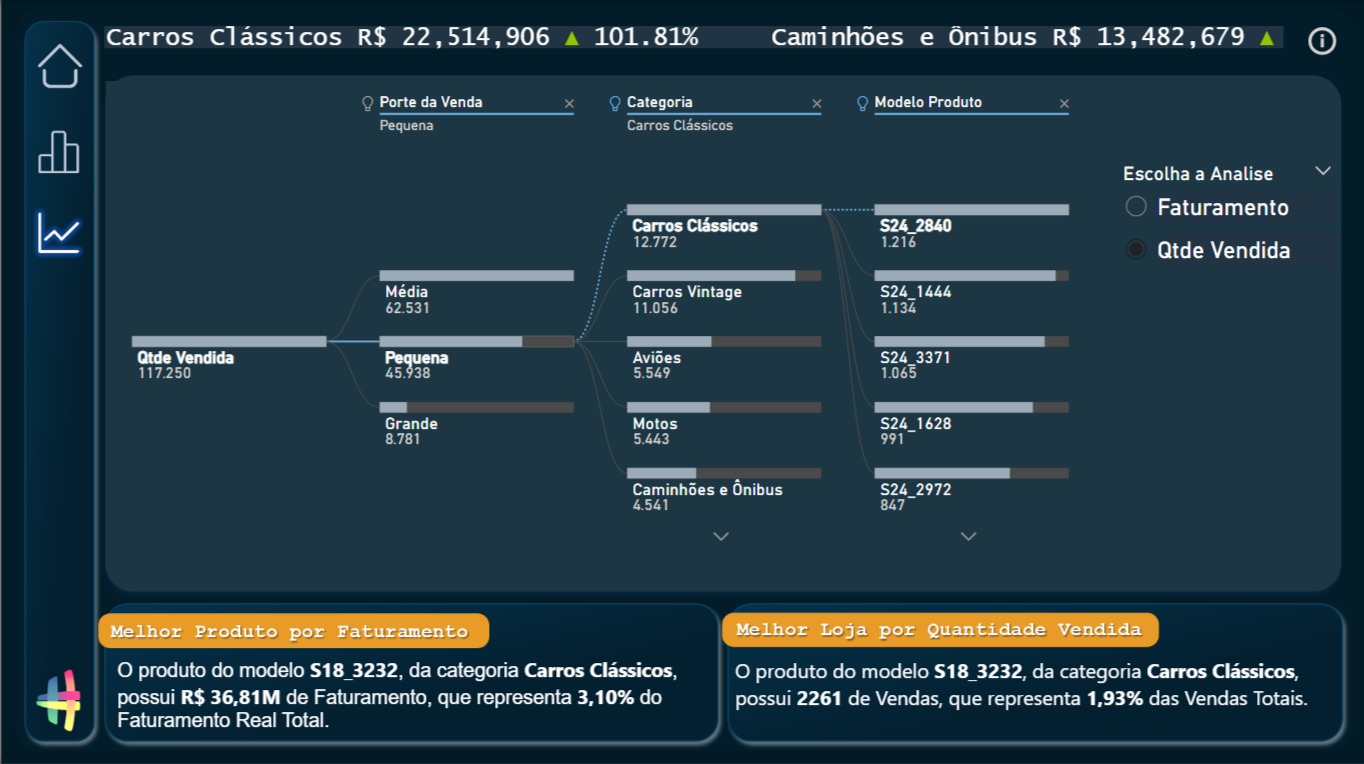

The dashboard page shown, as its layout file describes it:
{"tool":"powerbi","page":{"name":"Analise","canvas":[1280,720],"ordinal":2},"visuals":[{"type":"ScrollingTextVisual1448795304508","fields":{"Category":["dProduto.Categoria"],"Measure Absolute":["Medidas.Faturamento Real Ultimo Mês"],"Measure Deviation":["Medidas.% Crescimento Ultimo Mes"]},"box":[91.9,21.2,1115.6,31.1],"z":0},{"type":"actionButton","title":"Botão Informação Scroller","box":[1220.5,21.9,37.1,35.4],"z":1000},{"type":"enlightenDataStoryDDFB78A6143E42CFAFBC50CCF18D978D","fields":{"measure":["Medidas.Nome Top Produto Faturamento","Medidas.Categoria Top Produto Faturamento","Medidas.Faturamento Melhor Produto","Medidas.% Margem Top Produto Faturamento"]},"box":[103.2,610.8,568.4,89.1],"z":2000},{"type":"enlightenDataStoryDDFB78A6143E42CFAFBC50CCF18D978D","fields":{"measure":["Medidas.Nome Top Produto Qtde Vendida","Medidas.Categoria Top Produto Qtde Vendida","Medidas.Qtde Vendas Melhor Produto","Medidas.% Margem Top Produto Qtde Vendida"]},"box":[682.9,612.2,575.5,89.1],"z":3000},{"type":"decompositionTreeVisual","fields":{"Analyze":["Medidas.Faturamento Total Real"],"ExplainBy":["fVendas.Porte da Venda","dProduto.Categoria","dProduto.Modelo Produto"]},"box":[92.7,72.5,945.7,478.8],"z":4000},{"type":"slicer","fields":{"Values":["Parâmetro.Parâmetro"]},"box":[1038.5,148.4,220.8,126.4],"z":5000},{"type":"actionButton","box":[21.2,34.6,65.8,64.7],"z":7000},{"type":"actionButton","box":[20.1,112.7,69.1,63.6],"z":8000}]}

Visuals, with their boxes on the page's 1280x720 design canvas (x1, y1, x2, y2). These are canvas units, not pixel positions in the 1364x764 screenshot, which may show the page scaled, cropped or inside an application window:
ScrollingTextVisual1448795304508 - dProduto.Categoria x Medidas.Faturamento Real Ultimo Mês: (x1=92, y1=21, x2=1208, y2=52)
"Botão Informação Scroller" actionButton: (x1=1220, y1=22, x2=1258, y2=57)
enlightenDataStoryDDFB78A6143E42CFAFBC50CCF18D978D - Medidas.Nome Top Produto Faturamento x Medidas.Categoria Top Produto Faturamento: (x1=103, y1=611, x2=672, y2=700)
enlightenDataStoryDDFB78A6143E42CFAFBC50CCF18D978D - Medidas.Nome Top Produto Qtde Vendida x Medidas.Categoria Top Produto Qtde Vendida: (x1=683, y1=612, x2=1258, y2=701)
decompositionTreeVisual - Medidas.Faturamento Total Real x fVendas.Porte da Venda: (x1=93, y1=72, x2=1038, y2=551)
slicer - Parâmetro.Parâmetro: (x1=1038, y1=148, x2=1259, y2=275)
actionButton: (x1=21, y1=35, x2=87, y2=99)
actionButton: (x1=20, y1=113, x2=89, y2=176)
